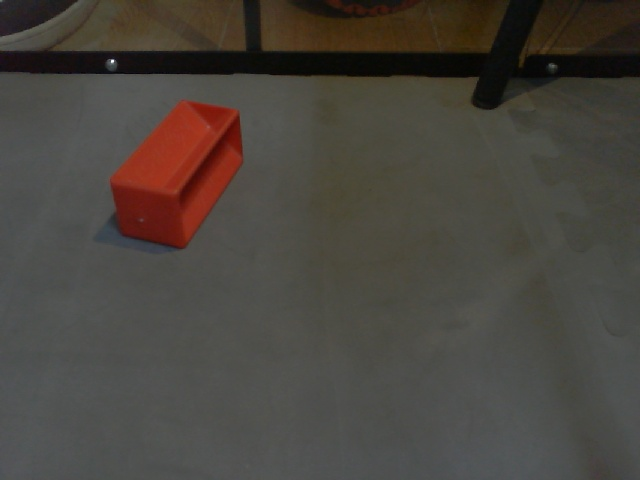RedSample: (107, 99, 247, 255)
